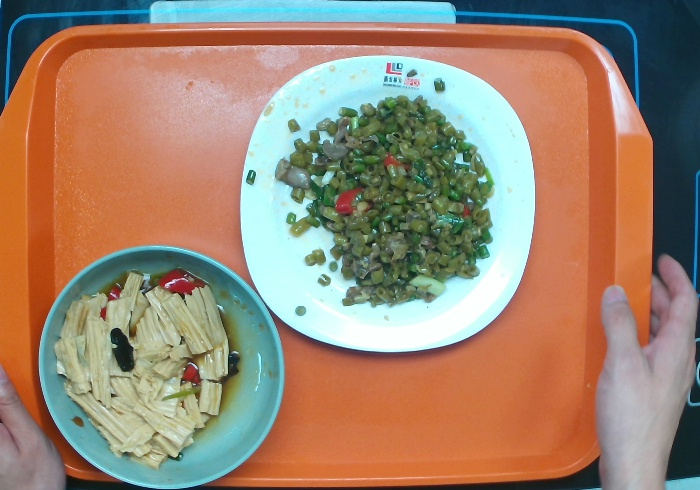ZNLD-Qing_Hua_Yuan_Wan: (35, 238, 299, 490)
ZNLD-Yuan_Jiao_Pan: (230, 48, 538, 357)
